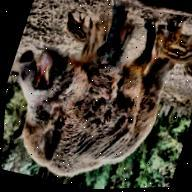boar: (0, 0, 192, 192), (145, 9, 192, 78)
